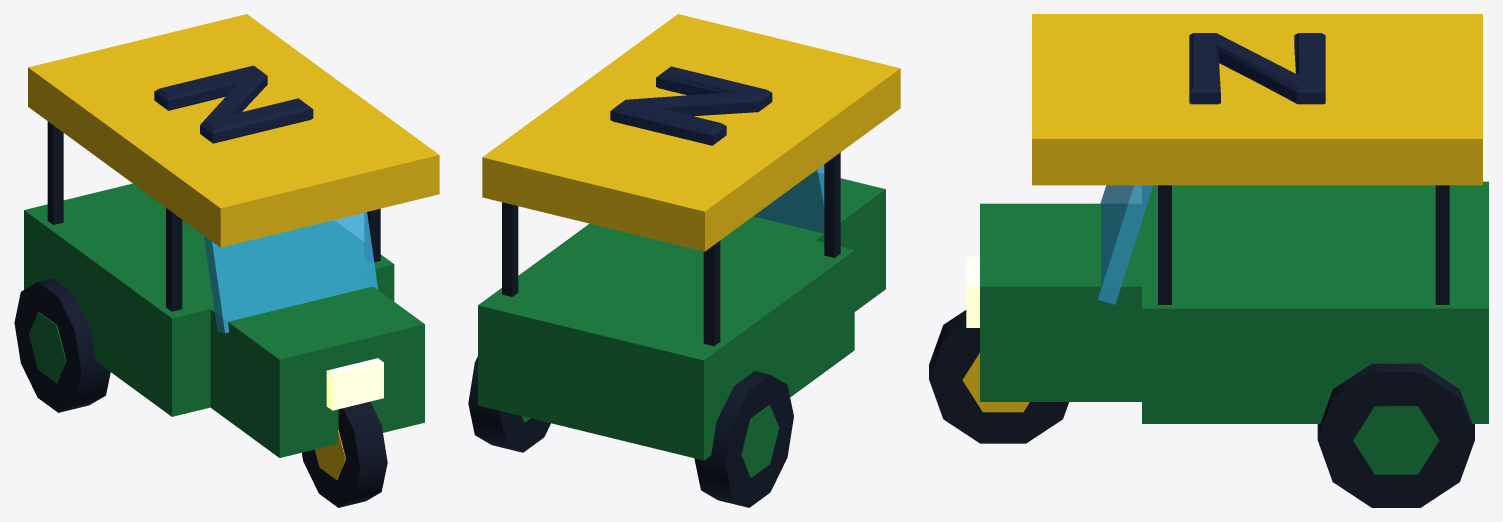
Rendered from zaldi-auto-lowpoly.glb.
The picture shows the model from 3 angles, left to right: view 1: azimuth 30°, elevation 25°; view 2: azimuth 150°, elevation 25°; view 3: azimuth 270°, elevation 25°; orthographic projection. The views are drawn at different scales.
Parts seen in each view (by area): view 1: Zaldi_LowPoly_Auto; view 2: Zaldi_LowPoly_Auto; view 3: Zaldi_LowPoly_Auto.
Part boxes in pixels (x1,y1,x2,y2): Zaldi_LowPoly_Auto: (14,14,439,507); Zaldi_LowPoly_Auto: (468,14,900,507); Zaldi_LowPoly_Auto: (929,14,1488,507).
Size of the model in its own units: 1.54 by 1.85 by 2.5.
